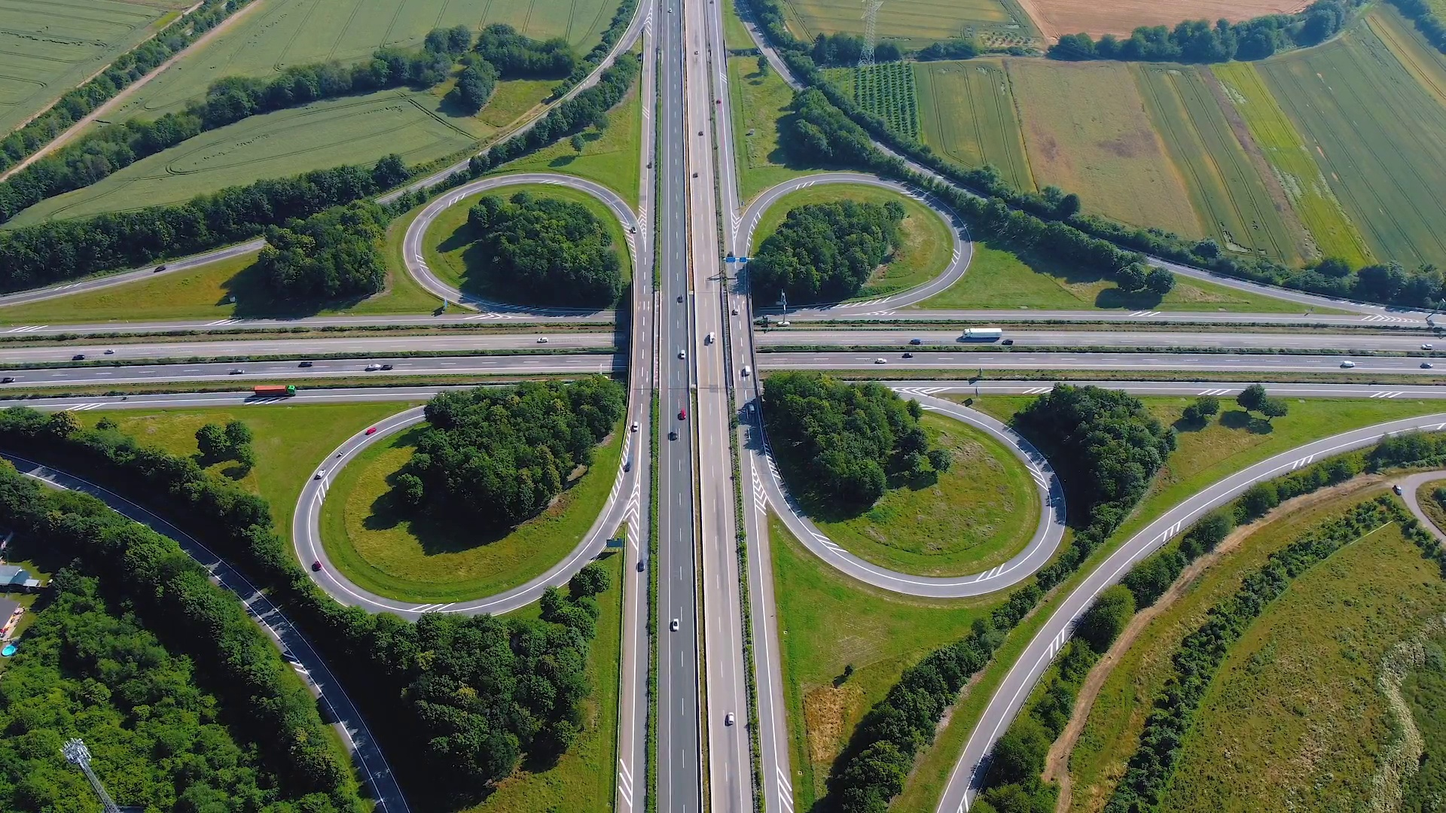Vehicle: (251, 385, 296, 396), (964, 329, 1002, 340), (672, 617, 681, 632), (310, 561, 322, 570), (1340, 361, 1355, 368), (637, 559, 645, 572), (678, 407, 686, 419), (229, 369, 245, 375), (365, 427, 377, 435), (1420, 343, 1433, 350), (72, 354, 85, 361), (1001, 339, 1014, 346), (728, 712, 735, 724), (742, 365, 750, 375), (318, 468, 326, 478), (1420, 363, 1433, 369), (367, 365, 380, 371), (298, 362, 313, 367), (1393, 485, 1401, 494), (902, 353, 914, 359), (381, 365, 393, 371), (875, 358, 887, 364), (909, 339, 921, 345), (537, 337, 548, 343), (748, 404, 754, 414), (672, 428, 677, 439), (4, 377, 15, 382), (633, 422, 638, 432), (104, 349, 114, 354), (709, 334, 715, 342), (677, 293, 683, 301), (680, 349, 685, 358), (156, 267, 166, 271), (649, 160, 653, 169), (631, 225, 636, 231), (694, 172, 700, 177), (699, 131, 704, 136), (717, 99, 721, 104), (669, 9, 673, 14), (695, 50, 698, 54)
